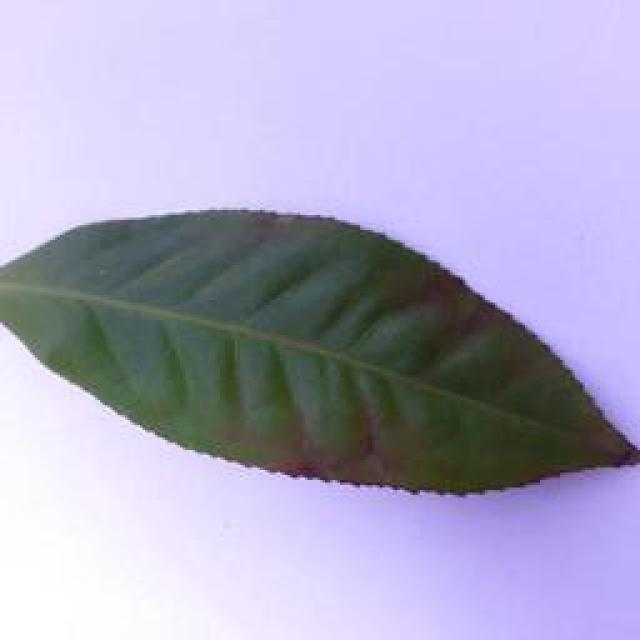Red Leaf Spot: (0, 208, 640, 501)
